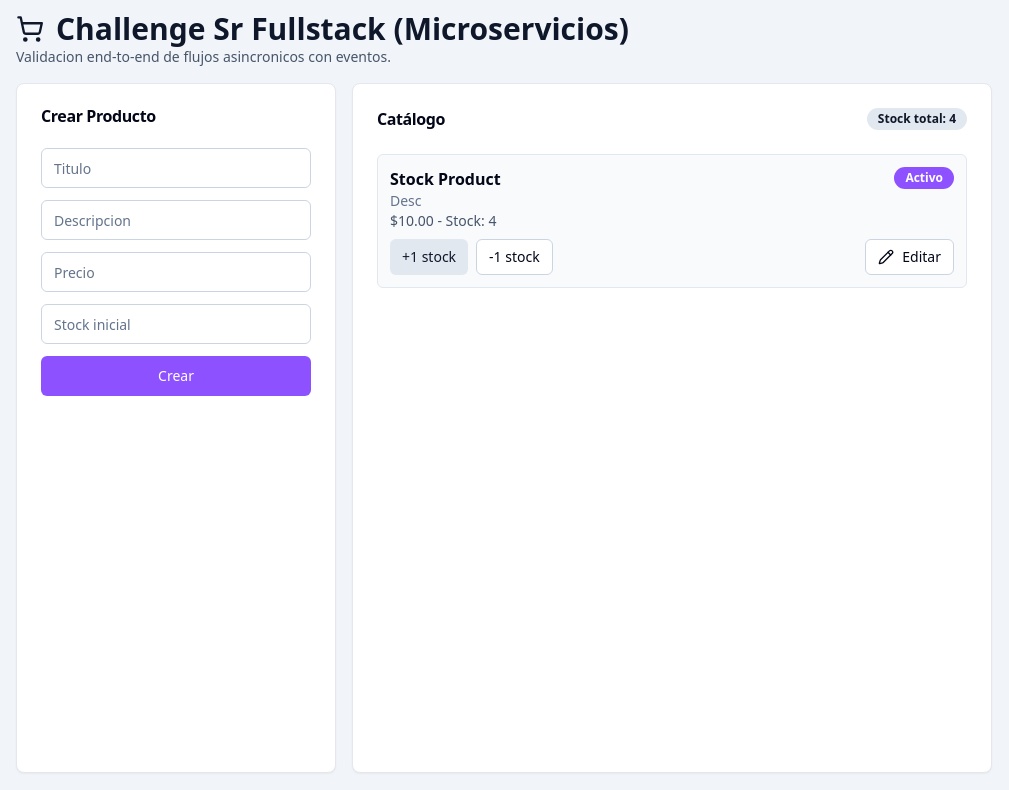
Test: App › keeps stock updated from mutation result without stale rollback
Expected: the heading "Stock Product" is shown, [390, 167, 501, 191]
Expected: the text "$10.00 - Stock: 4" is shown, [390, 211, 501, 231]
Click the button "+1 stock": (429, 257) [390, 239, 468, 275]
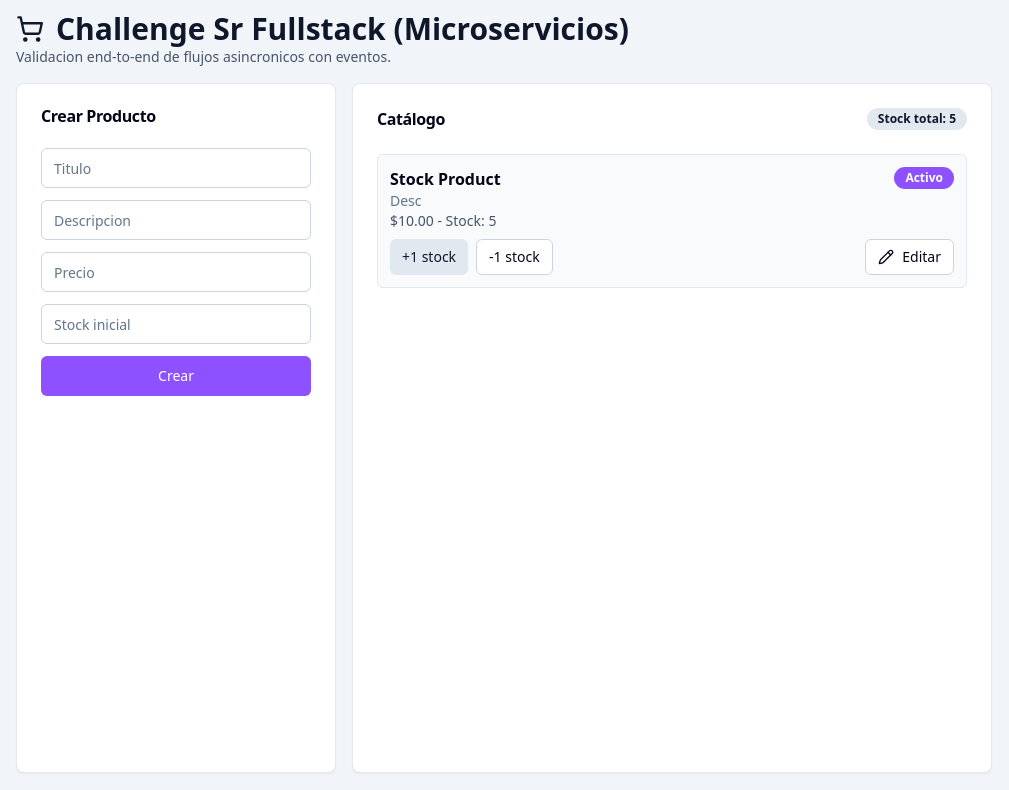
Now the text "$10.00 - Stock: 5" is shown, box [390, 211, 501, 231]
